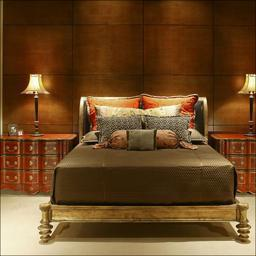Cama: (66, 104, 238, 221)
